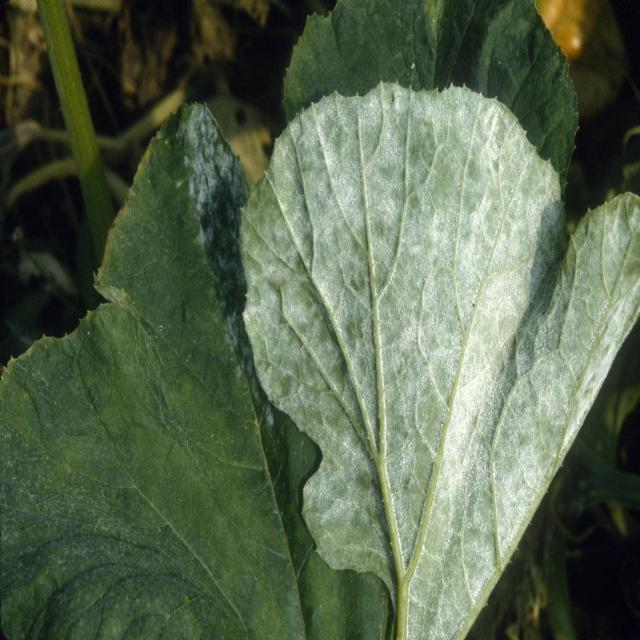Powdery Mildew: (176, 70, 564, 591)
